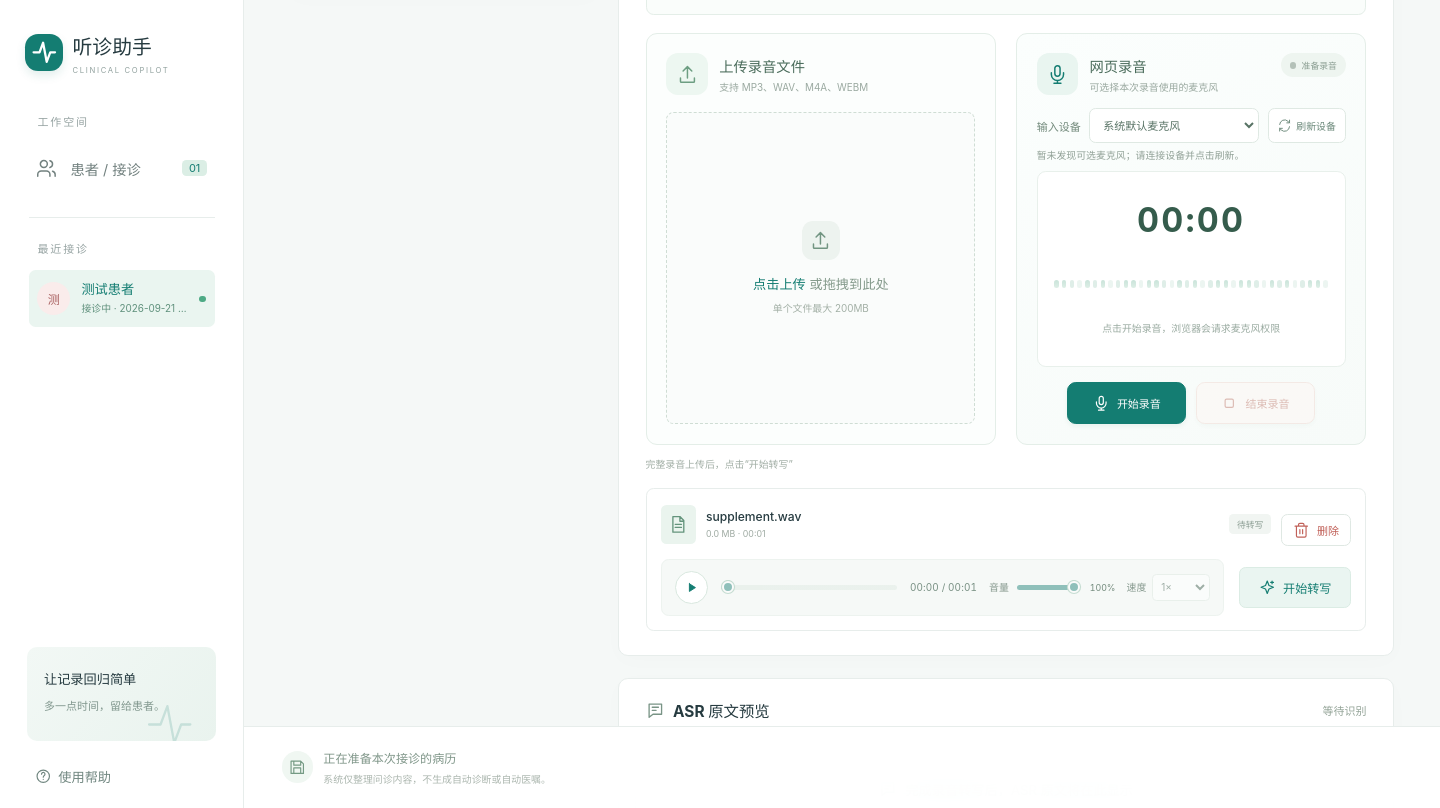
Test: microphone input selection › clears the live recording timer and signal state when a recording ends
This screenshot has width=1440, height=808.
(page scrolled)
Click the button with class "recorder-main-btn" at [1127, 403], box x1=1067 y1=382 x2=1186 y2=424
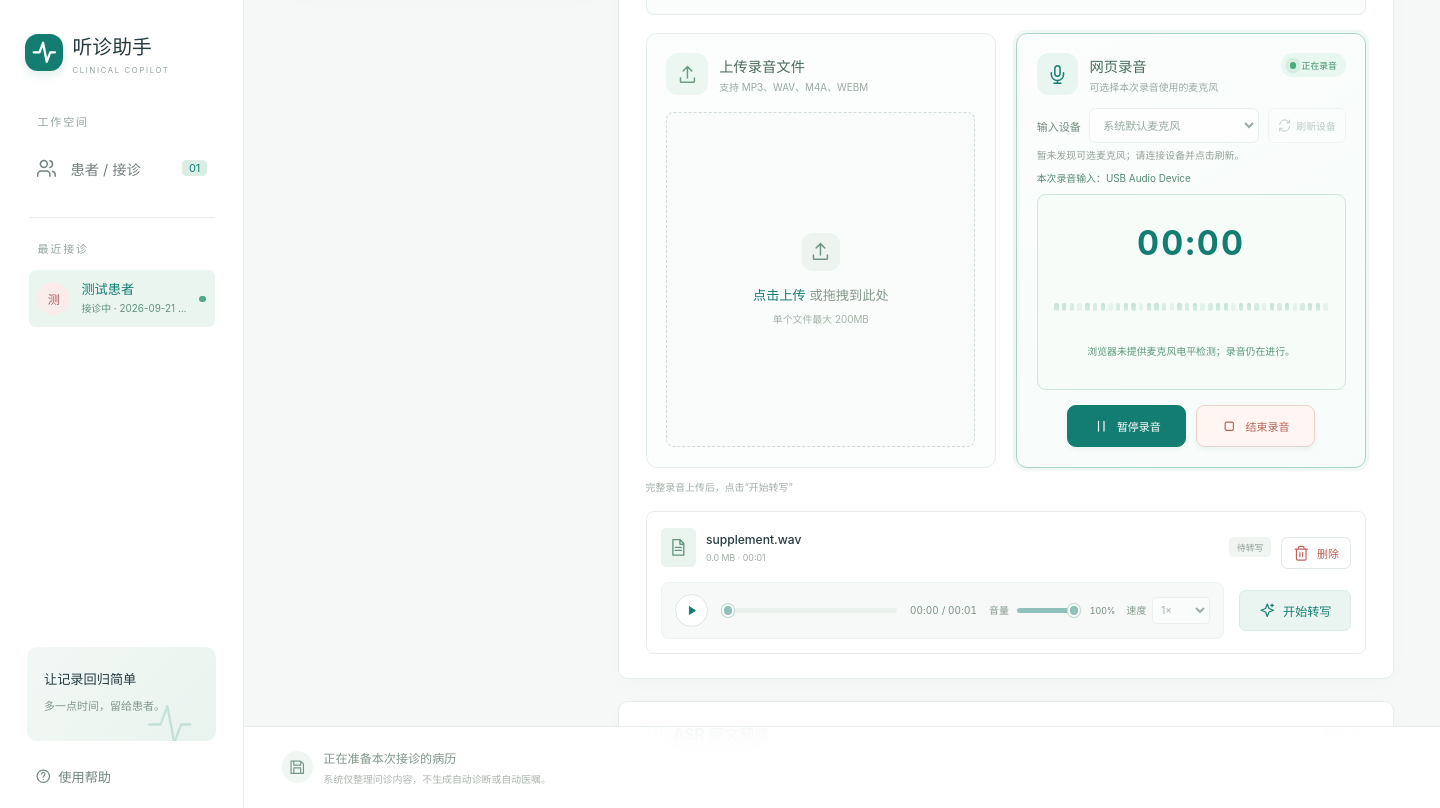
Now the button with class "recorder-main-btn" reads "暂停录音"
Click the button with class "recorder-main-btn" at [1127, 426], box x1=1067 y1=405 x2=1186 y2=447
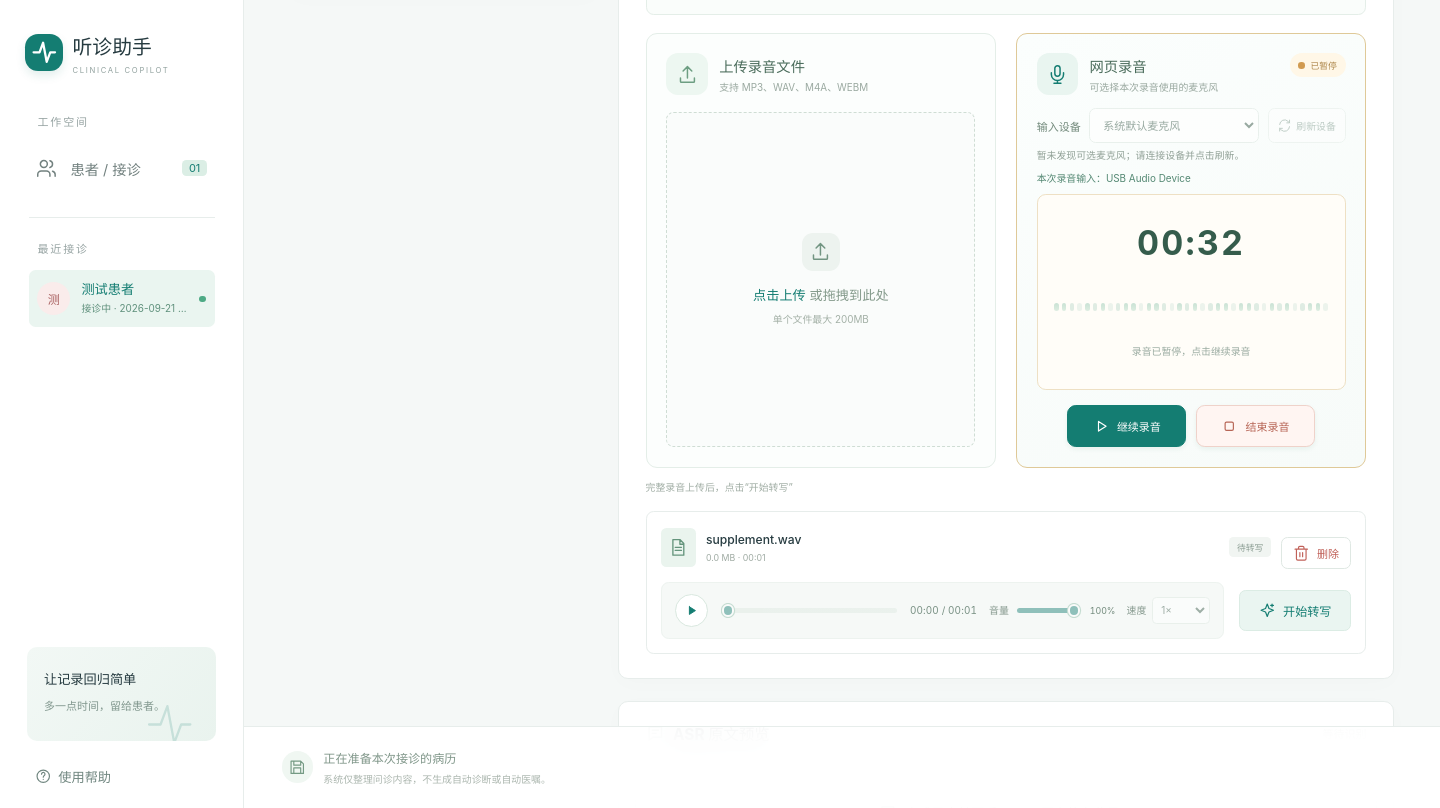
Now the text "本次录音输入：USB Audio Device" is shown, box x1=1037 y1=172 x2=1191 y2=184
Now the text with class "recorder-timer" reads "00:32", box x1=1137 y1=222 x2=1245 y2=263
Click the button with class "recorder-stop-btn" at [1256, 426], box x1=1196 y1=405 x2=1315 y2=447
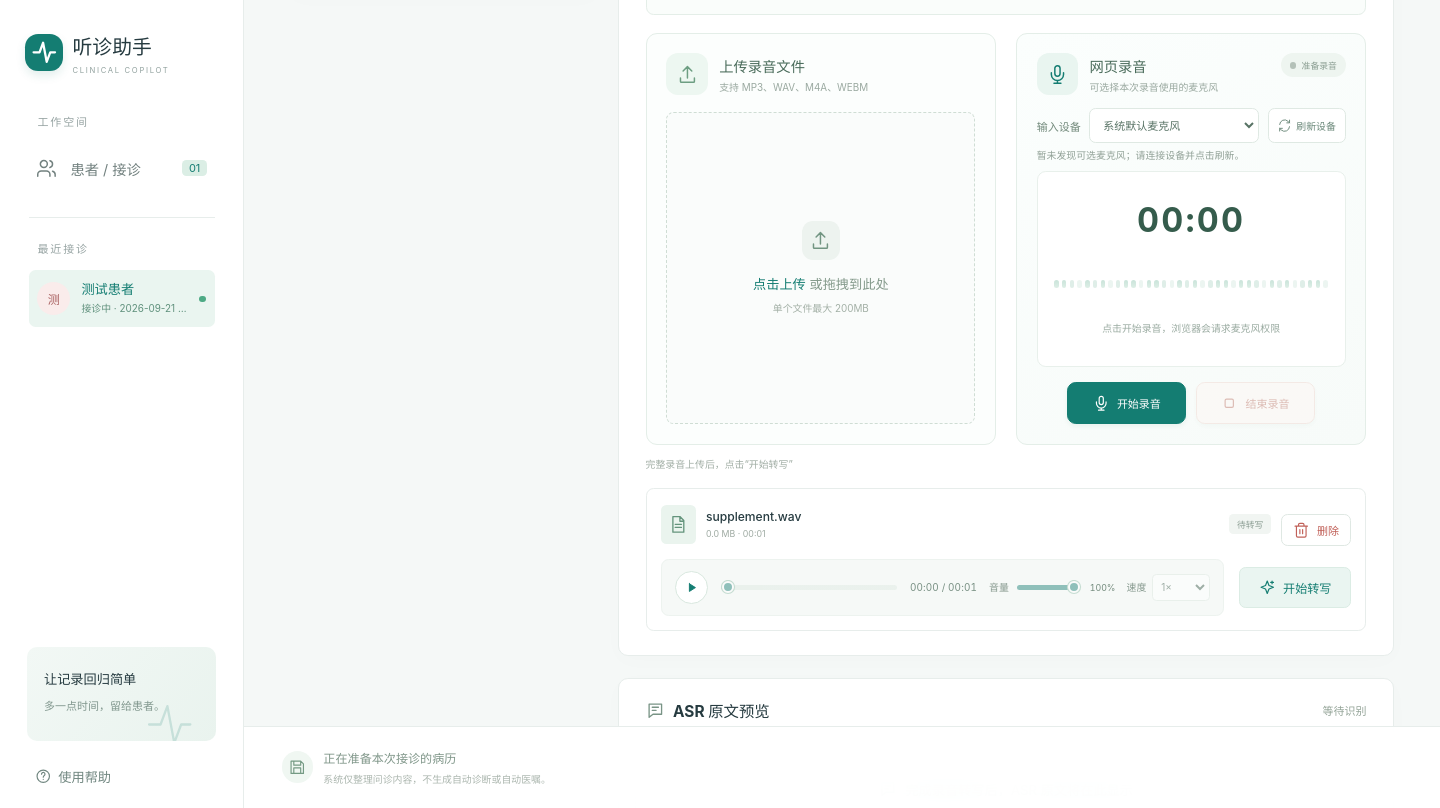
Now the text with class "recorder-timer" reads "00:00", box x1=1137 y1=198 x2=1245 y2=240
Now the element with class "recorder-live" shows "点击开始录音", box x1=1102 y1=322 x2=1280 y2=334
